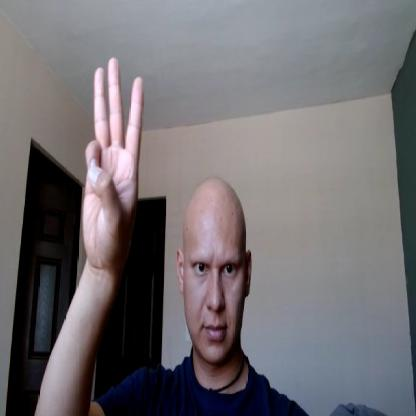W: (82, 58, 148, 264)
